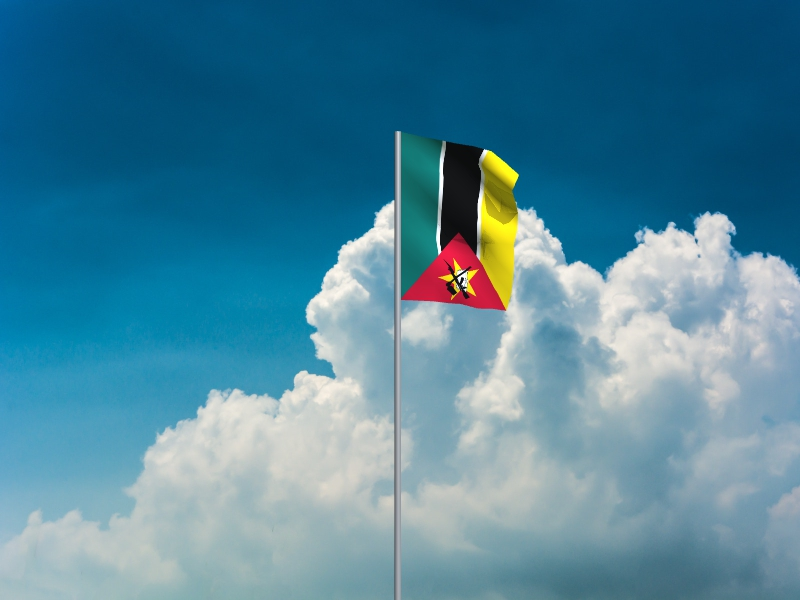mz: (401, 133, 520, 312)
